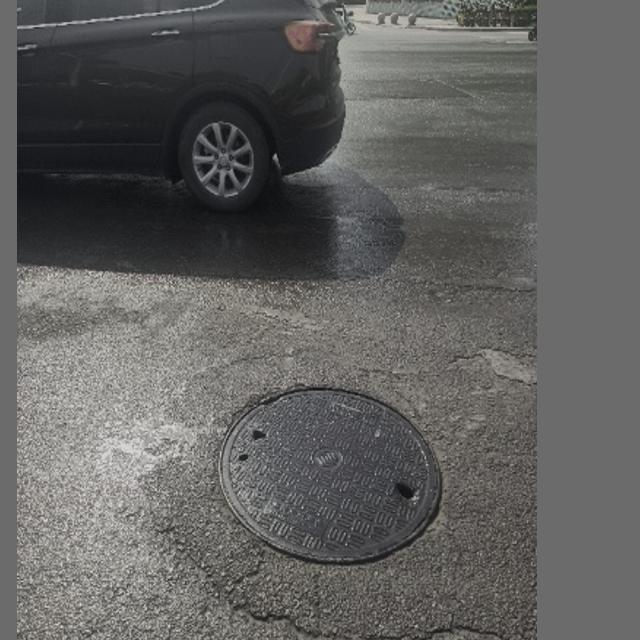good: (219, 385, 441, 564)
